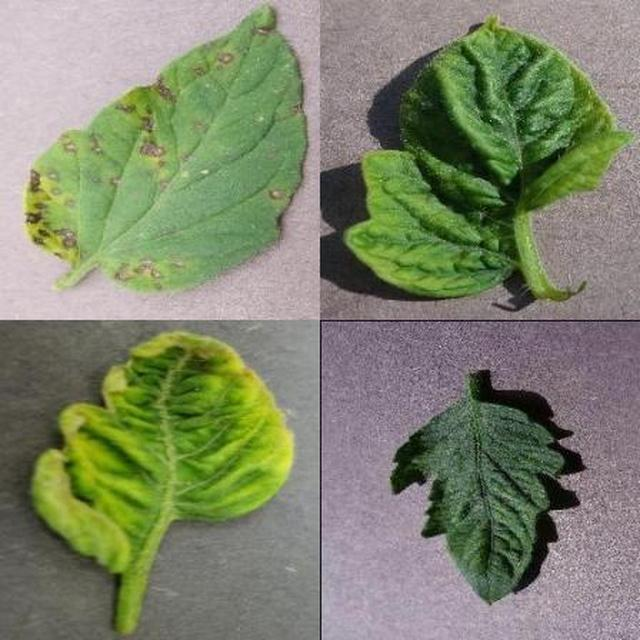Septoria Leaf: (233, 214, 640, 640)
